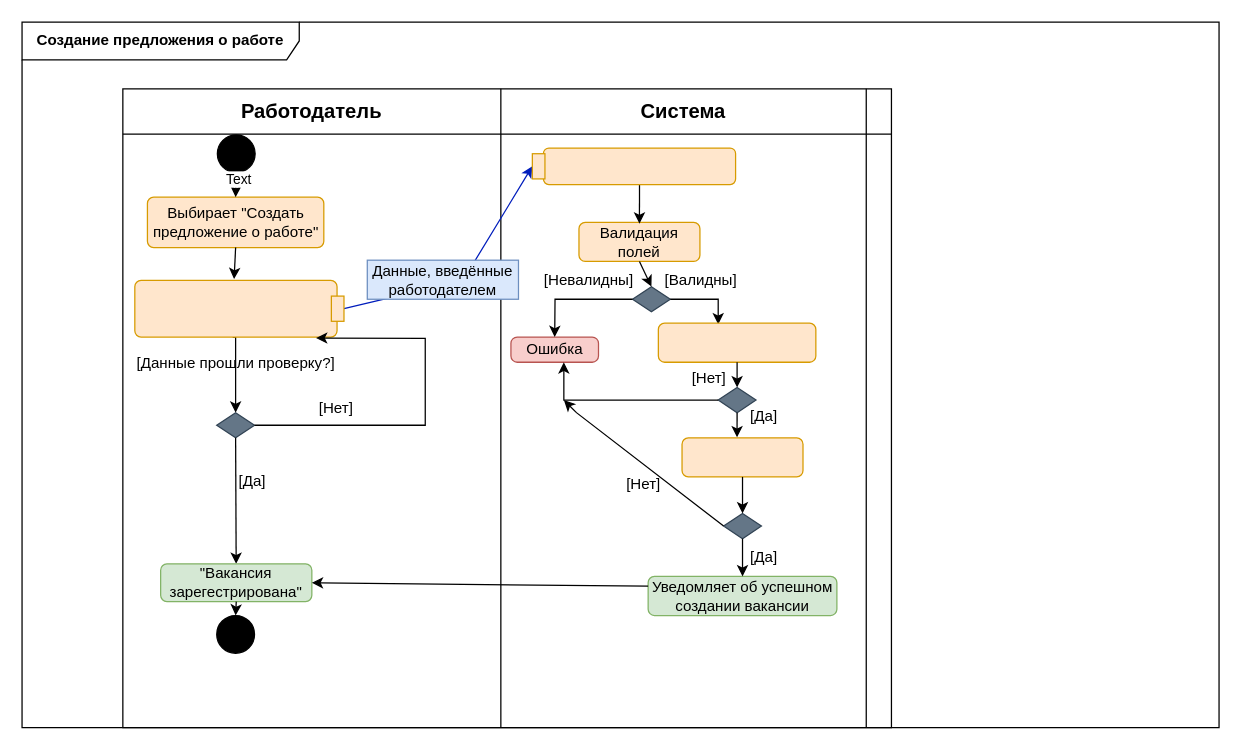
Image size: 1241x750. Some labels were removed from this diagram. Here are the shapes that lost their labels. From the top down, the box of each, then its label:
(542, 147, 736, 185): Проверка данных
(134, 279, 337, 337): Вводит данные для публикации
(657, 322, 816, 362): Проверка на логическое соответствие
(681, 437, 803, 477): Проверка по БД
